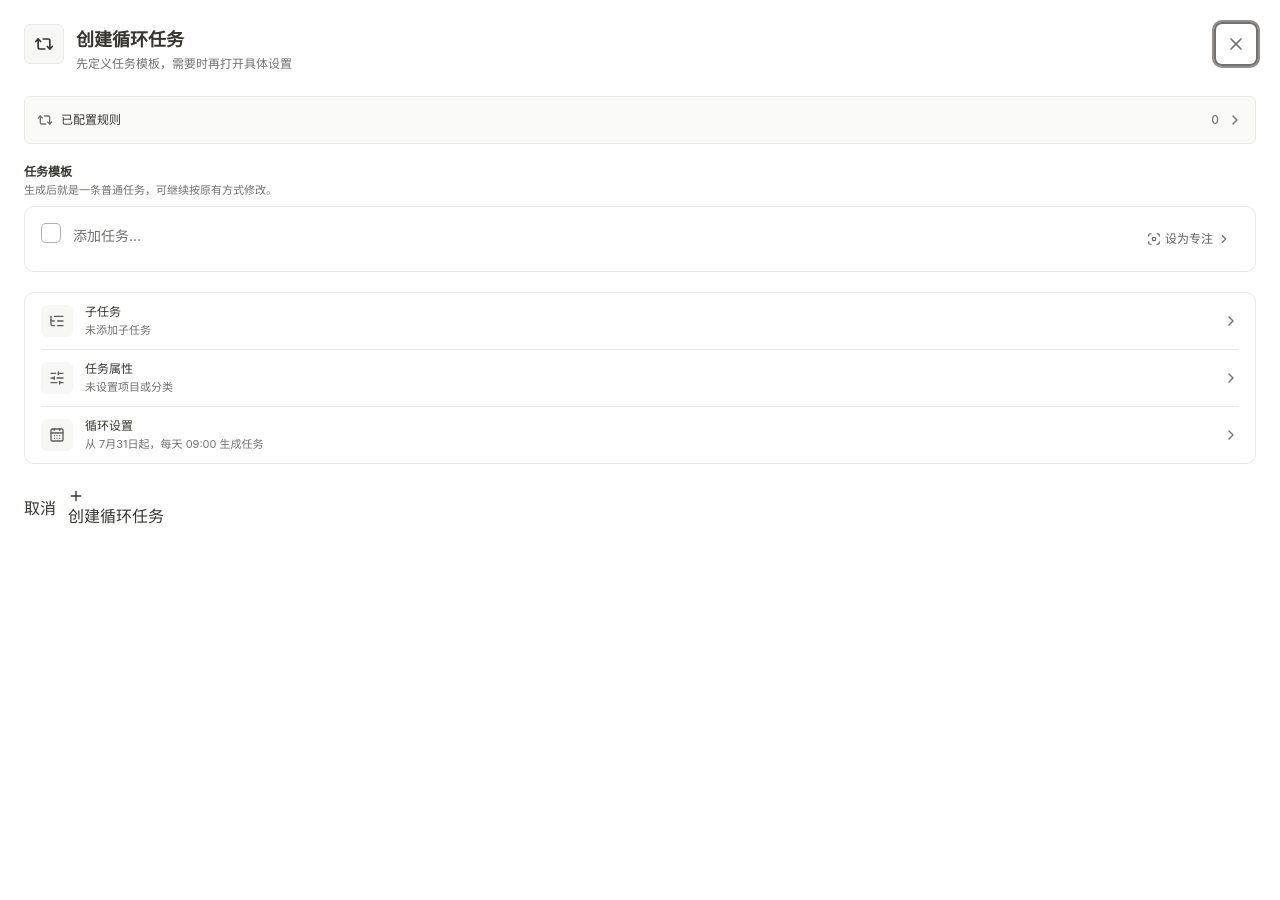
it: AddRecurringTaskModal › always exposes the configured-rules entry, including its empty state
The width and height of the screenshot is (1280, 900).
Click the button with aria-label "管理已配置规则".
click(91, 120)  # box [24,96,1256,144]
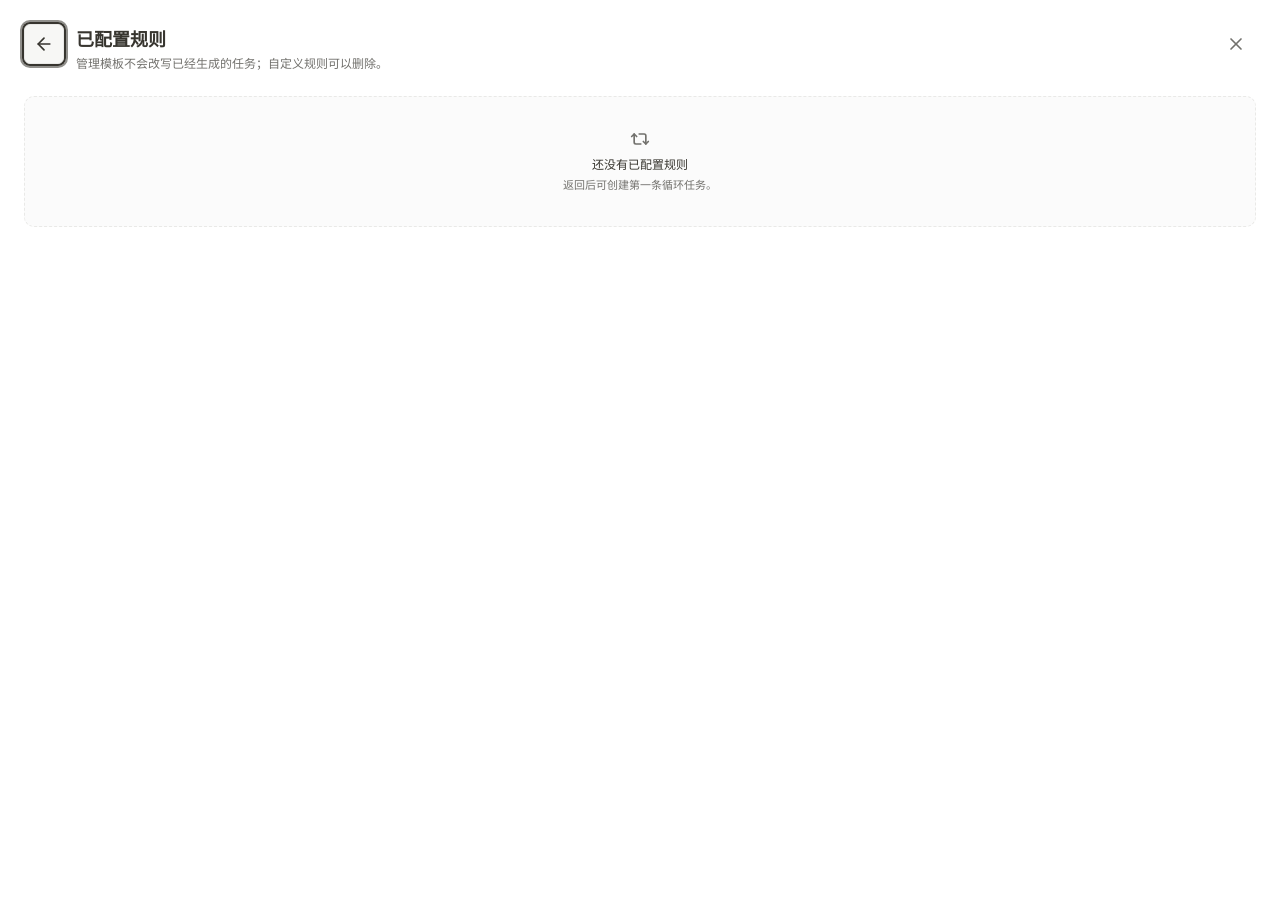
Result: the text "还没有已配置规则" is shown at [592,157,688,172]
Result: the text "返回后可创建第一条循环任务。" is shown at [563,178,717,192]
